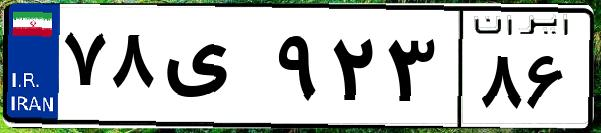2: (330, 28, 385, 110)
3: (385, 28, 445, 110)
6: (525, 38, 570, 115)
7: (57, 26, 110, 100)
8: (475, 38, 525, 113), (110, 28, 158, 98)
9: (270, 28, 330, 110)
ی: (158, 20, 270, 120)
